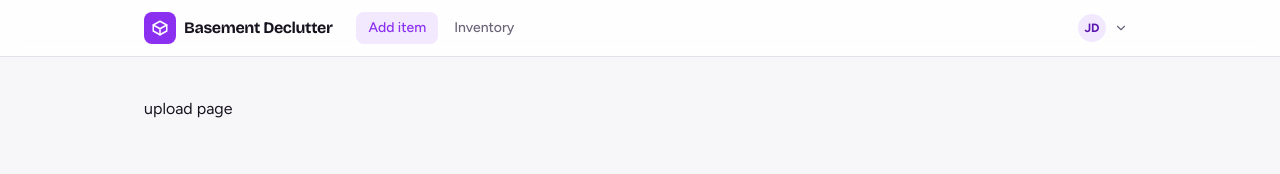
Test case: AppLayout › closes the menu on Escape and on outside click
The width and height of the screenshot is (1280, 174).
Expected: the text "JD" is shown, [1078, 14, 1106, 42]
Click the button with aria-label "Account menu" at (1105, 28), box [1074, 10, 1136, 46]
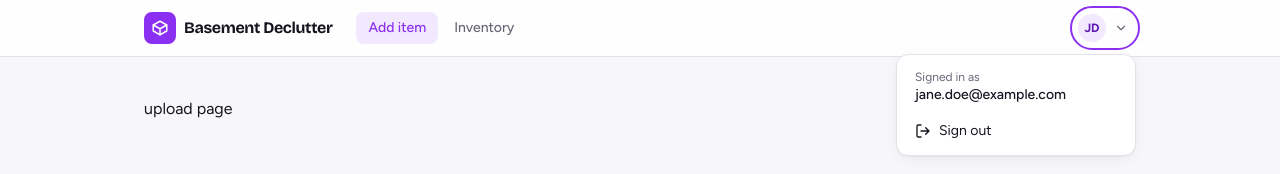
Press Escape
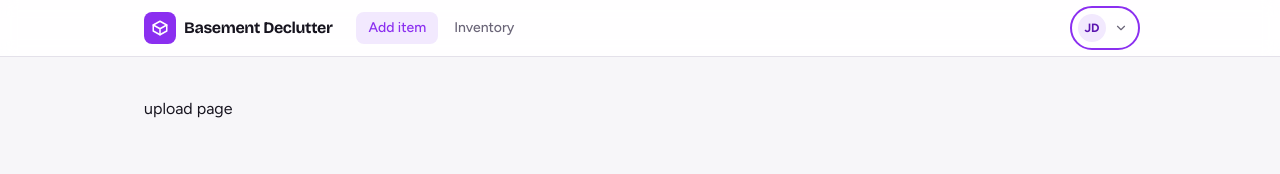
Result: the menu is gone
Click the button with aria-label "Account menu" at (1105, 28), box [1074, 10, 1136, 46]
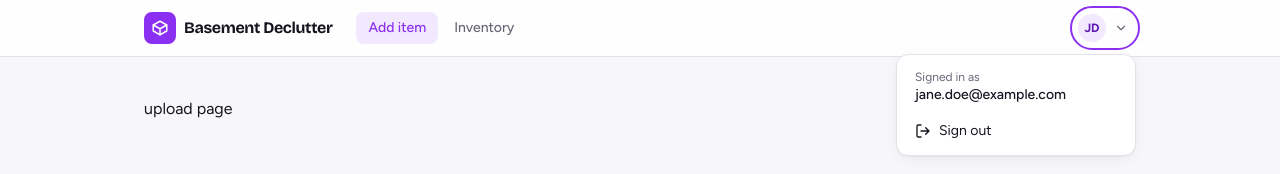
Result: the menu is shown at [896, 54, 1136, 156]
Click the text "upload page" at (188, 108), box [144, 99, 232, 118]
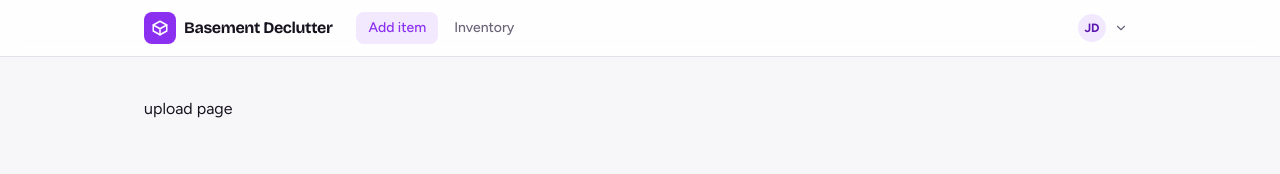
Result: the menu is gone
